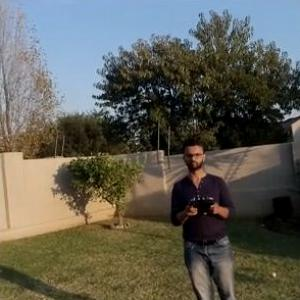follow: (162, 131, 239, 299)
